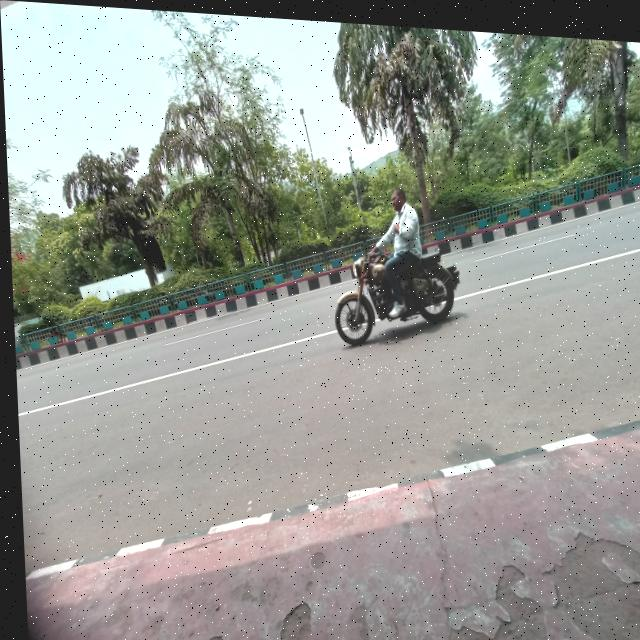bike: (324, 243, 468, 343)
